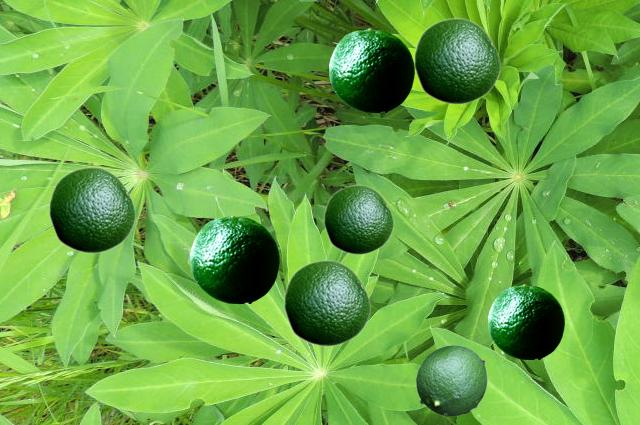calamansi: (190, 215, 278, 302), (413, 17, 500, 104), (283, 259, 370, 346), (48, 166, 135, 253), (329, 28, 413, 111), (488, 284, 563, 358), (323, 184, 393, 254), (416, 345, 486, 415)
